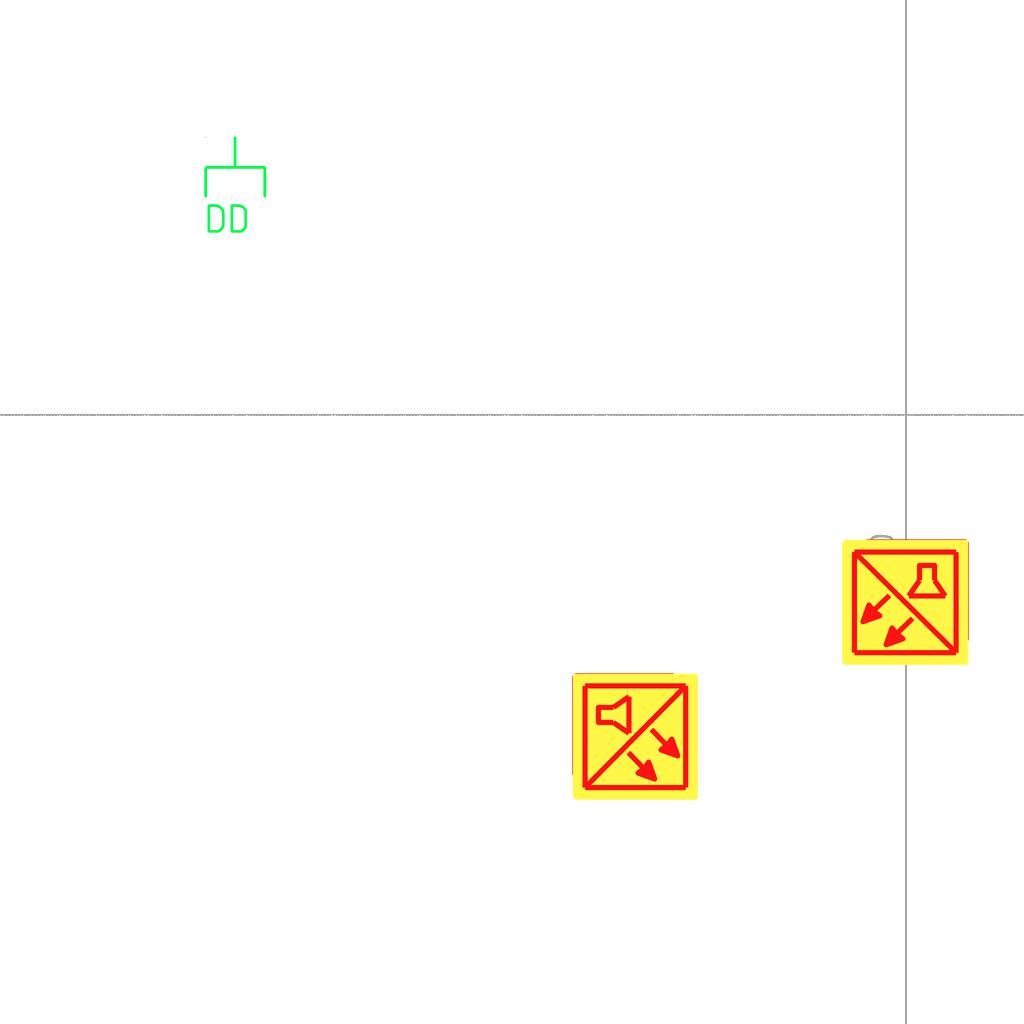Datenanschluss_zweifach: (200, 134, 269, 237)
OKW_Multisensormelder_(Kombination_optischer_Rauch-Kahlenmonoxid_Waerme-Melder): (569, 671, 701, 803), (839, 536, 971, 668)
